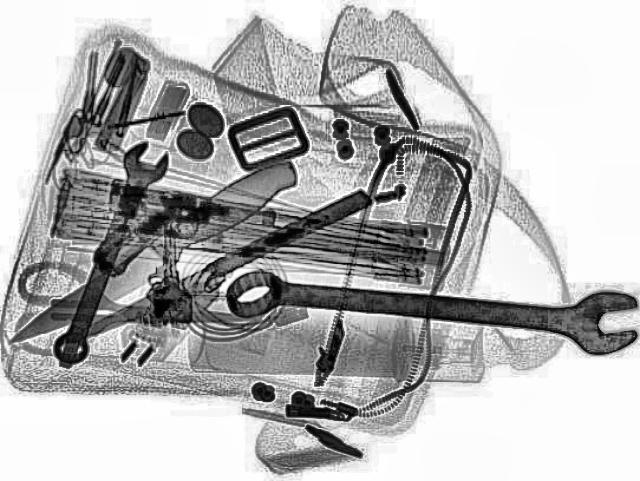Gun: (83, 179, 279, 293)
Knife: (1, 150, 310, 350), (49, 186, 375, 350), (47, 287, 233, 337)
Wrench: (221, 256, 635, 356), (40, 137, 174, 365)
